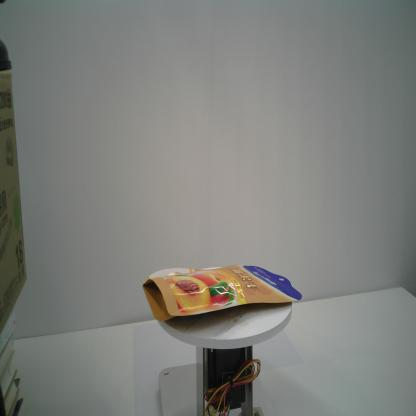Dried Fruit: (141, 263, 303, 322)
